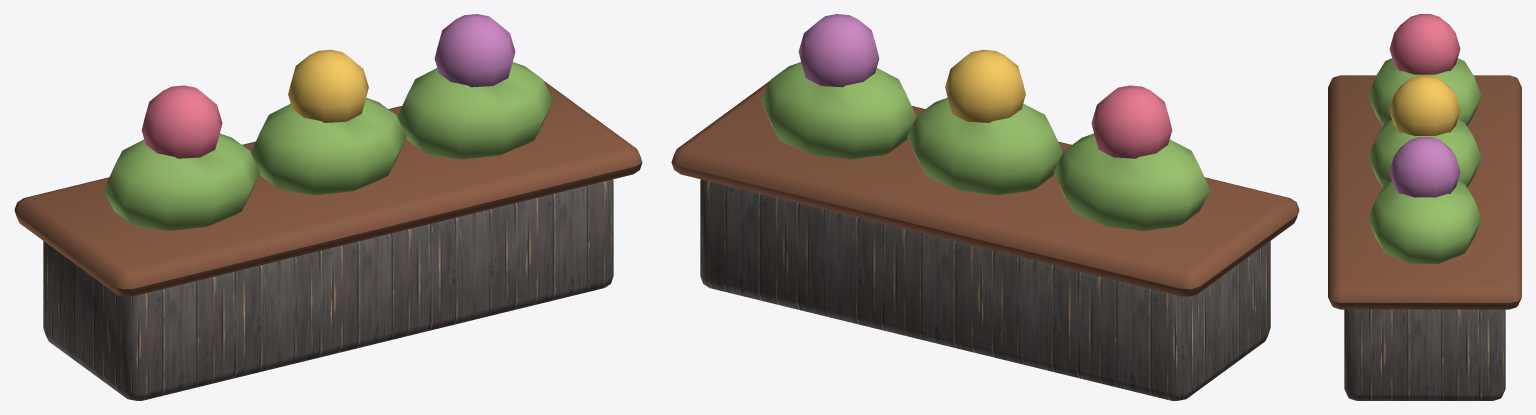
The model's file is flower_box.gltf.
3 renders of one model, left to right at view 1: azimuth 30°, elevation 25°; view 2: azimuth 150°, elevation 25°; view 3: azimuth 270°, elevation 25°, orthographic. The views are drawn at different scales.
Parts seen in each view (by area): view 1: flower_box; view 2: flower_box; view 3: flower_box.
Part boxes in pixels (x1,y1,x2,y2): flower_box: (14,14,642,400); flower_box: (671,14,1299,400); flower_box: (1328,14,1521,400).
Size of the model in its own units: 1.62 by 0.77 by 0.6.
Materials: 3 (3 with a texture image).
